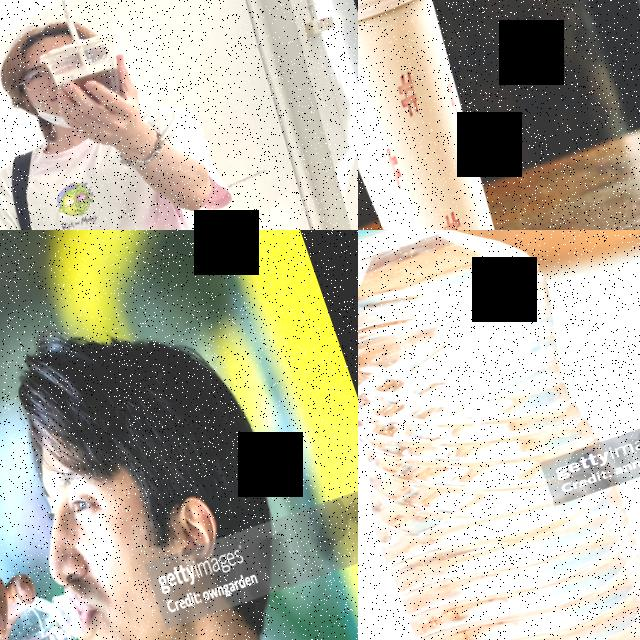bottle: (358, 230, 640, 640)
cup: (358, 0, 546, 230), (40, 28, 138, 122)
